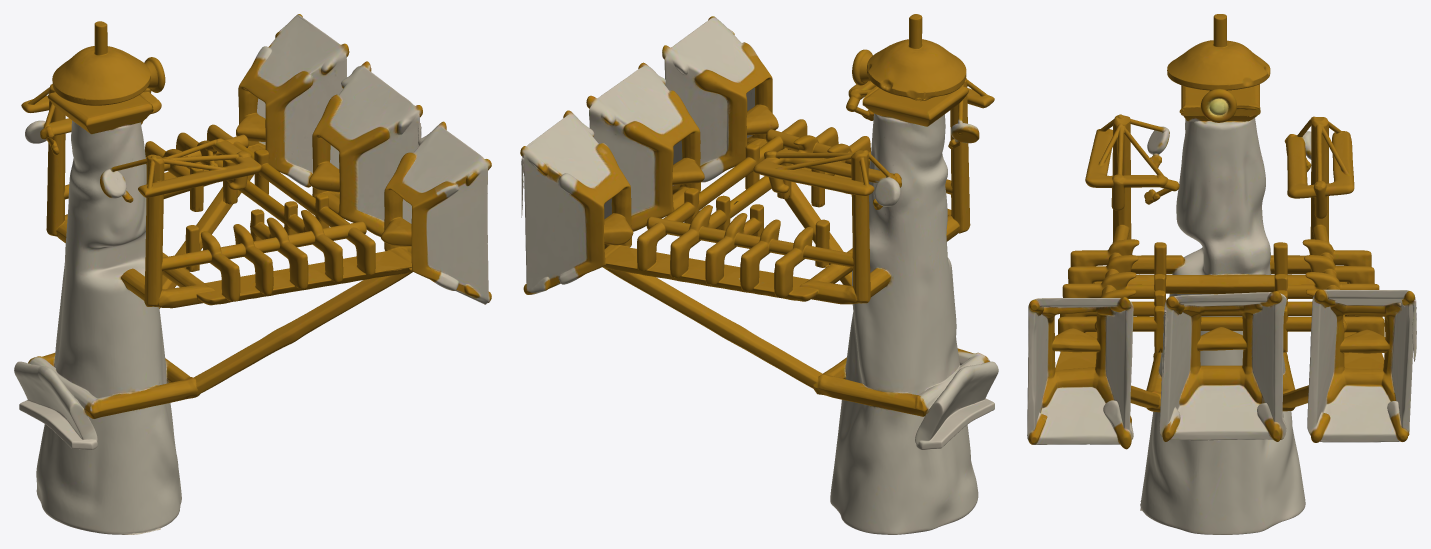
File: anchor.fbx
3 renders of one model, left to right at view 1: azimuth 30°, elevation 25°; view 2: azimuth 150°, elevation 25°; view 3: azimuth 270°, elevation 25°, orthographic.
Visible parts, largest first — view 1: tripo_node_81b33c3b-6d57-4b31-8d0d-6ec4c6637613; view 2: tripo_node_81b33c3b-6d57-4b31-8d0d-6ec4c6637613; view 3: tripo_node_81b33c3b-6d57-4b31-8d0d-6ec4c6637613.
Part boxes in pixels (x1=…): tripo_node_81b33c3b-6d57-4b31-8d0d-6ec4c6637613: x1=14, y1=14, x2=491, y2=534; tripo_node_81b33c3b-6d57-4b31-8d0d-6ec4c6637613: x1=520, y1=14, x2=998, y2=534; tripo_node_81b33c3b-6d57-4b31-8d0d-6ec4c6637613: x1=1027, y1=14, x2=1416, y2=534.
Size of the model in its own units: 75.23 by 97.91 by 71.2.
Materials: 1 (1 with a texture image).
